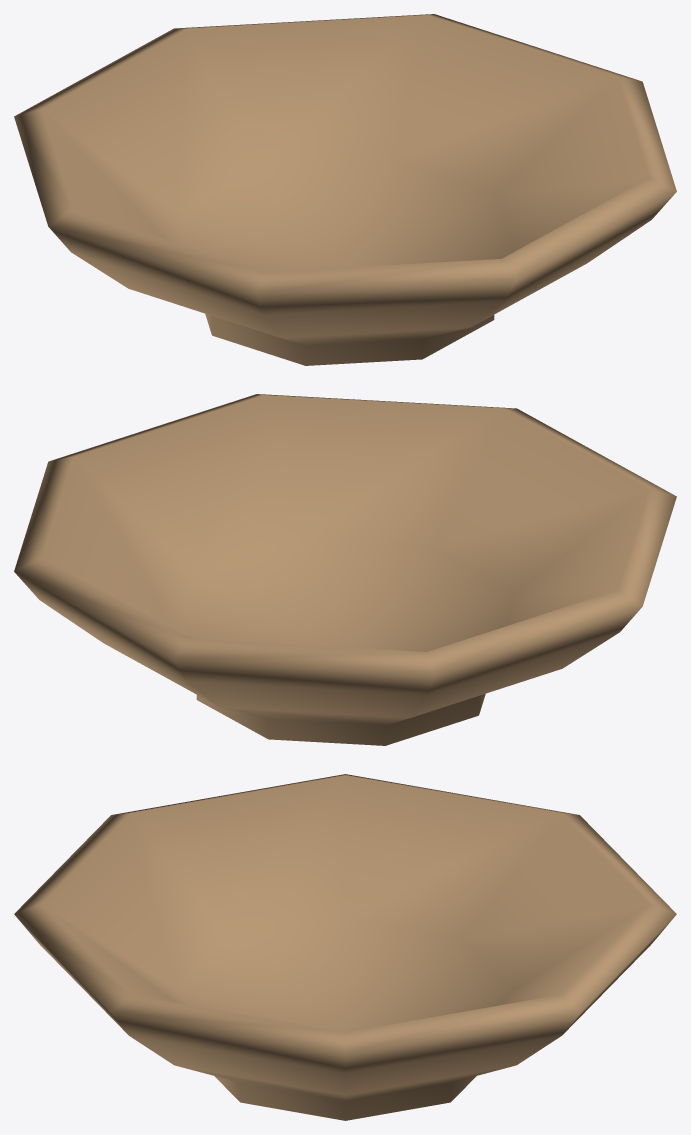
File: bowl_004.fbx
3 renders of one model, top to bottom at view 1: azimuth 30°, elevation 25°; view 2: azimuth 150°, elevation 25°; view 3: azimuth 270°, elevation 25°, orthographic. The views are drawn at different scales.
Visible parts, largest first — view 1: bowl_004; view 2: bowl_004; view 3: bowl_004.
Part boxes in pixels (x1,y1,x2,y2): bowl_004: (14,14,676,365); bowl_004: (14,394,676,745); bowl_004: (14,774,676,1120).
Bounding box in the file's own units: 196 × 50.18 × 196.
